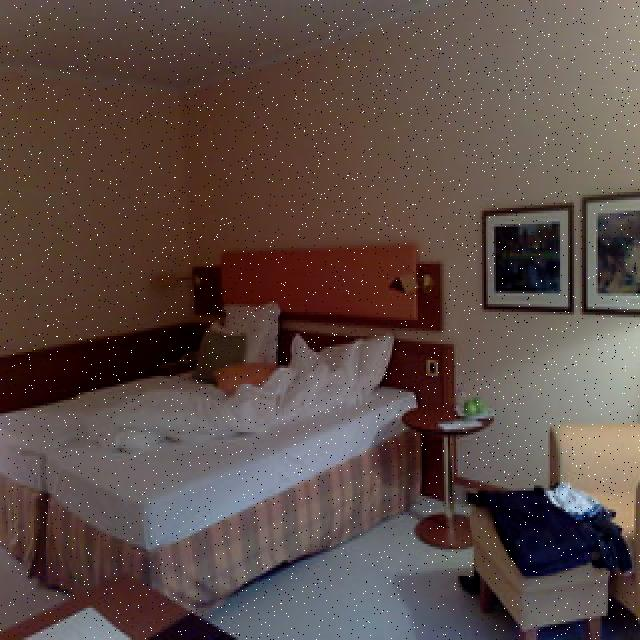bed: (0, 302, 429, 554)
